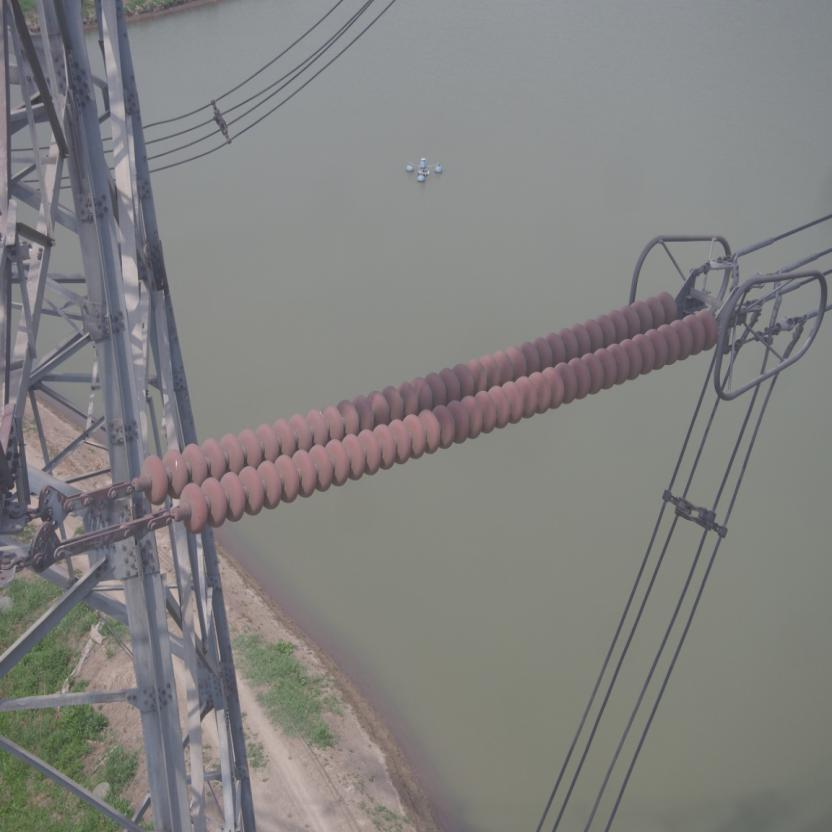insulator: (113, 284, 724, 539)
